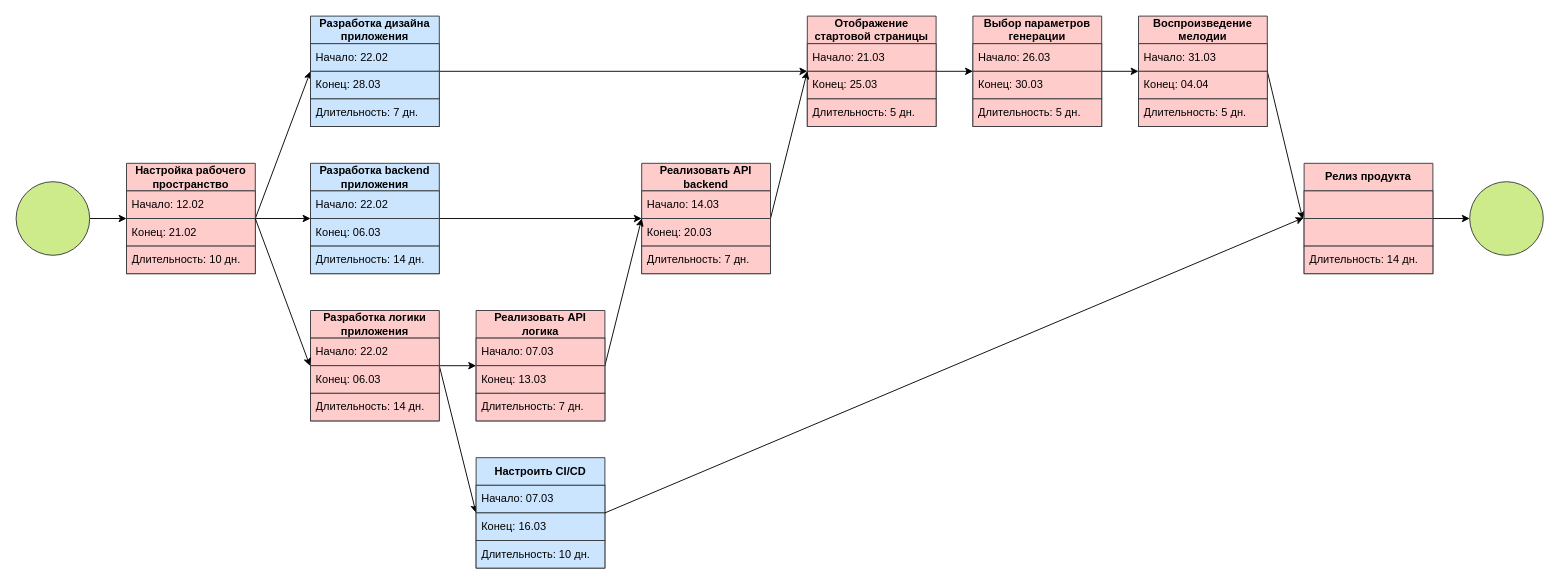
The diagram is 1559 pixels wide and 584 high, and some of its shapes have lost their labels. The centre of each missing label's shape, as x and y in pixels:
"Конец" goes at [1506,218].
"Конец: 18.04" goes at [1368,232].
"Начало: 05.04" goes at [1368,204].
"Старт" goes at [52,218].
